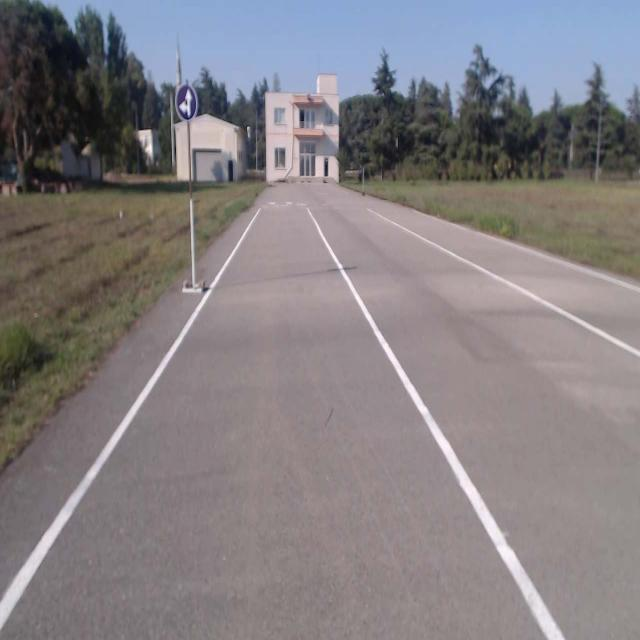ilerisol: (175, 84, 197, 120)
